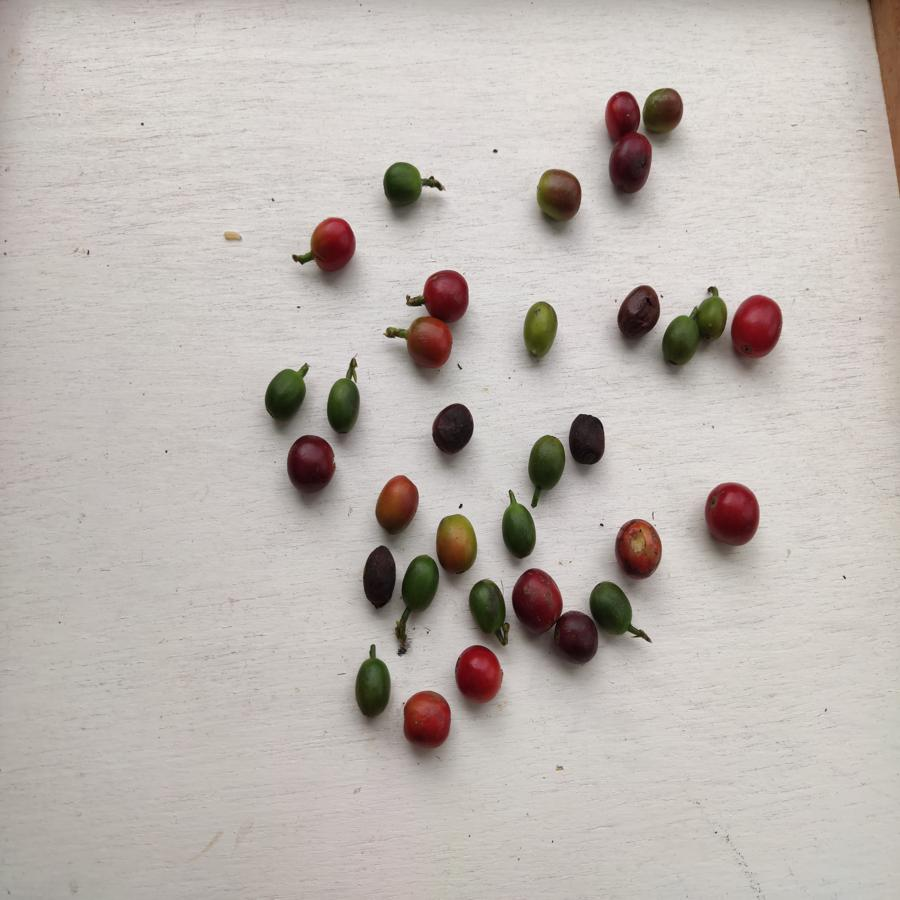Inmaduro: (498, 499, 542, 559), (352, 658, 393, 718), (591, 580, 637, 633), (399, 553, 438, 614), (324, 377, 363, 437), (469, 578, 509, 636), (526, 433, 566, 491), (264, 368, 304, 419), (523, 303, 559, 359), (383, 160, 421, 207), (662, 316, 697, 366), (696, 294, 726, 344)
Maduro: (732, 291, 784, 364), (705, 479, 760, 548), (614, 516, 664, 581), (454, 644, 506, 701), (401, 691, 451, 747), (310, 218, 358, 273), (422, 271, 472, 323), (407, 319, 451, 370)
Pinton: (536, 167, 584, 226), (436, 514, 479, 576), (376, 473, 417, 531), (641, 86, 684, 134)
Sobremaduro: (511, 569, 564, 634), (286, 434, 337, 494), (607, 132, 653, 194), (358, 543, 398, 609), (554, 611, 599, 665), (431, 402, 476, 454), (615, 286, 660, 338), (567, 411, 609, 466), (602, 91, 640, 141)
